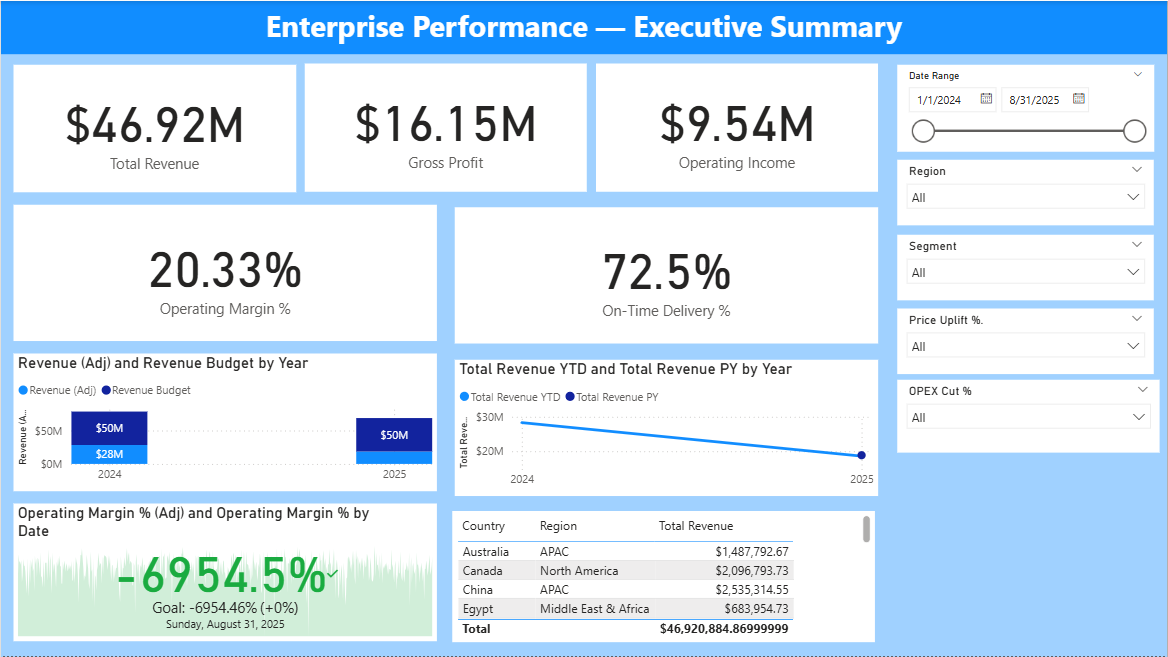

Layout of this report page (visuals, bound fields, positions):
{"tool":"powerbi","page":{"name":"Executive Summary","canvas":[1280,720],"ordinal":0},"visuals":[{"type":"textbox","box":[0,0,1280,58.1],"z":0},{"type":"slicer","fields":{"Values":["dim_date.Date"]},"box":[984.2,70.4,281.7,95.1],"z":1000},{"type":"slicer","fields":{"Values":["dim_customer.Region"]},"box":[984.2,174.9,281.7,72.2],"z":2000},{"type":"slicer","fields":{"Values":["dim_customer.Segment"]},"box":[984.2,256.5,281.7,72.2],"z":3000},{"type":"card","fields":{"Values":["Measures (2).Total Revenue"]},"box":[14.1,70.4,310,140],"z":4000},{"type":"card","fields":{"Values":["Measures (2).Gross Profit"]},"box":[333.7,68.7,309.9,140.9],"z":5000},{"type":"card","fields":{"Values":["Measures (2).Operating Income"]},"box":[653.2,68.7,309.9,140.9],"z":6000},{"type":"card","fields":{"Values":["Measures (2).Operating Margin %"]},"box":[14.1,223.3,465,149.7],"z":7000},{"type":"card","fields":{"Values":["Measures (2).On-Time Delivery %"]},"box":[498.3,226.6,464.8,149.7],"z":8000},{"type":"columnChart","fields":{"Category":["dim_date.MonthStart.Variation.Date Hierarchy.Year","dim_date.MonthStart.Variation.Date Hierarchy.Quarter","dim_date.MonthStart.Variation.Date Hierarchy.Month","dim_date.MonthStart.Variation.Date Hierarchy.Day"],"Y":["Measures (2).Revenue (Adj)","Measures (2).Revenue Budget"]},"box":[14.1,386.8,464.8,151.4],"z":9000},{"type":"lineChart","fields":{"Category":["dim_date.Date.Variation.Date Hierarchy.Year","dim_date.Date.Variation.Date Hierarchy.Quarter","dim_date.Date.Variation.Date Hierarchy.Month","dim_date.Date.Variation.Date Hierarchy.Day"],"Y":["Measures (2).Total Revenue YTD","Measures (2).Total Revenue PY"]},"box":[498.3,393.3,464.8,149.7],"z":10000},{"type":"slicer","fields":{"Values":["Price Uplift %.Price Uplift %"]},"box":[984.2,338,281.7,72.2],"z":11000},{"type":"slicer","fields":{"Values":["OPEX Cut %.OPEX Cut %"]},"box":[984,416,288,80],"z":12000},{"type":"kpi","fields":{"TrendLine":["dim_date.Date"],"Goal":["Measures (2).Operating Margin %"],"Indicator":["Measures (2).Operating Margin % (Adj)"]},"box":[14,552,465,151],"z":13000},{"type":"tableEx","fields":{"Values":["dim_customer.Country","dim_customer.Region","Measures (2).Total Revenue"]},"box":[496,560,464,144],"z":14000}]}

Visuals, with their boxes in screenshot pixels (x1, y1, x2, y2), scaled from the page's 1280x720 canvas onto the 1168x657 screenshot:
textbox: x1=0, y1=0, x2=1167, y2=53
slicer - dim_date.Date: x1=898, y1=64, x2=1155, y2=151
slicer - dim_customer.Region: x1=898, y1=160, x2=1155, y2=225
slicer - dim_customer.Segment: x1=898, y1=234, x2=1155, y2=300
card - Measures (2).Total Revenue: x1=13, y1=64, x2=296, y2=192
card - Measures (2).Gross Profit: x1=305, y1=63, x2=587, y2=191
card - Measures (2).Operating Income: x1=596, y1=63, x2=879, y2=191
card - Measures (2).Operating Margin %: x1=13, y1=204, x2=437, y2=340
card - Measures (2).On-Time Delivery %: x1=455, y1=207, x2=879, y2=343
columnChart - dim_date.MonthStart.Variation.Date Hierarchy.Year x dim_date.MonthStart.Variation.Date Hierarchy.Quarter: x1=13, y1=353, x2=437, y2=491
lineChart - dim_date.Date.Variation.Date Hierarchy.Year x dim_date.Date.Variation.Date Hierarchy.Quarter: x1=455, y1=359, x2=879, y2=495
slicer - Price Uplift %.Price Uplift %: x1=898, y1=308, x2=1155, y2=374
slicer - OPEX Cut %.OPEX Cut %: x1=898, y1=380, x2=1161, y2=453
kpi - dim_date.Date x Measures (2).Operating Margin %: x1=13, y1=504, x2=437, y2=641
tableEx - dim_customer.Country x dim_customer.Region: x1=453, y1=511, x2=876, y2=642
